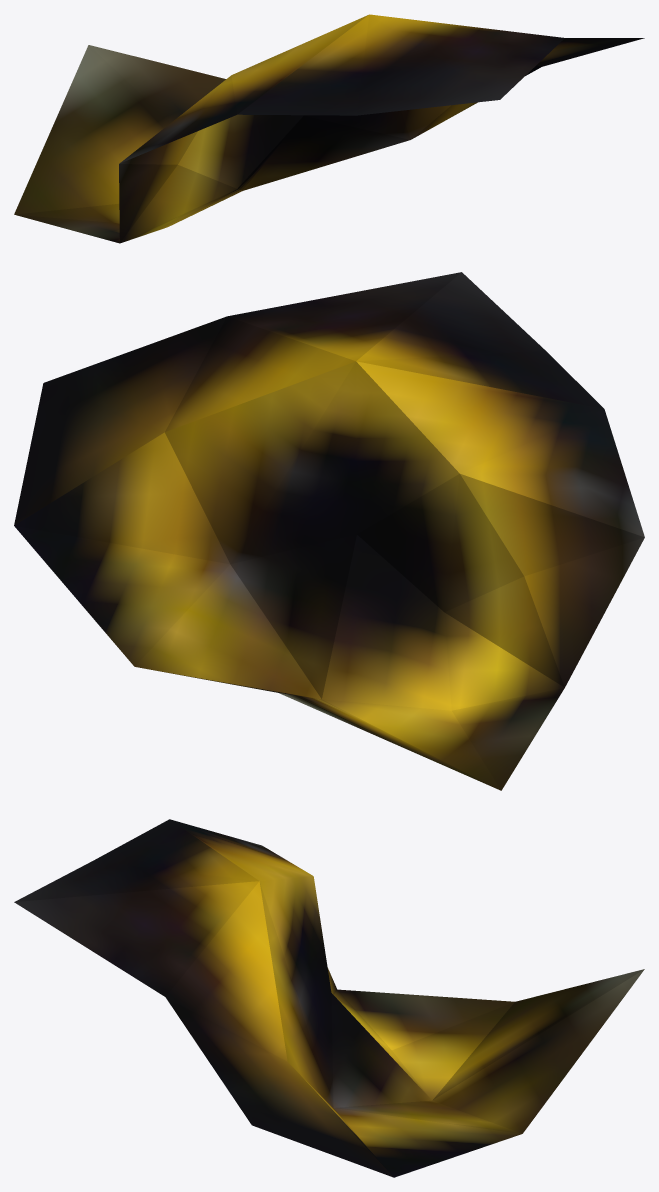
Rendered from EngineOilFillerCap.fbx.
3 views of the same model, one above another, from view 1: azimuth 30°, elevation 25°; view 2: azimuth 150°, elevation 25°; view 3: azimuth 270°, elevation 25° (orthographic). The views are drawn at different scales.
Parts seen in each view (by area): view 1: Engine oil filler cap; view 2: Engine oil filler cap; view 3: Engine oil filler cap.
Part boxes in pixels (x1,y1,x2,y2): Engine oil filler cap: [14, 14, 644, 243]; Engine oil filler cap: [14, 272, 644, 790]; Engine oil filler cap: [14, 819, 644, 1177].
Bounding box in the file's own units: 5.29 × 2.19 × 5.
